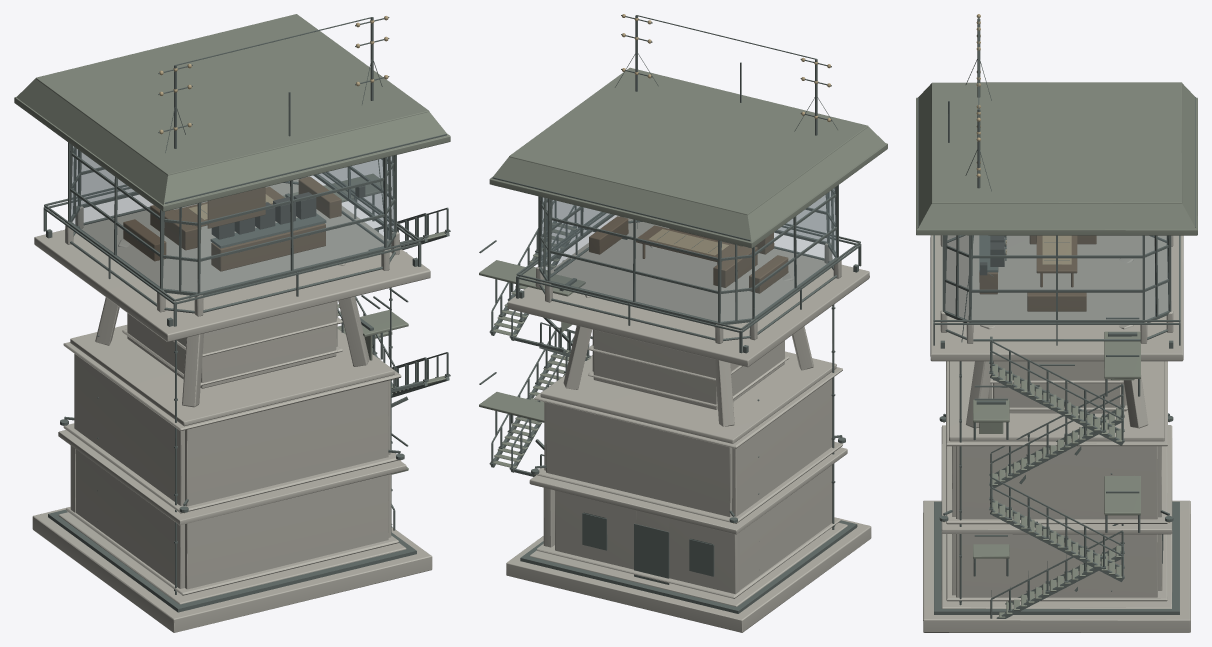
File: Control_Tower_HQ_23_LOD1.glb
3 views of the same model, side by side, from view 1: azimuth 30°, elevation 25°; view 2: azimuth 150°, elevation 25°; view 3: azimuth 270°, elevation 25° (orthographic). The views are drawn at different scales.
Visible parts, largest first — view 1: HQ23 Tower LOD1 | HQ23 Tower | Combined | aged poured concre, HQ23 Tower LOD1 | HQ23 Tower | Combined | faded galvanized w, HQ23 Tower LOD1 | HQ23 Tower | Combined | lightly smoky wart, HQ23 Tower LOD1 | HQ23 Tower | Combined | dark oxide steel a, HQ23 Tower LOD1 | HQ23 Tower | Combined | dark varnished ope, HQ23 Tower LOD1 | HQ23 Tower | Combined | radio bakelite and; view 2: HQ23 Tower LOD1 | HQ23 Tower | Combined | aged poured concre, HQ23 Tower LOD1 | HQ23 Tower | Combined | faded galvanized w, HQ23 Tower LOD1 | HQ23 Tower | Combined | dark oxide steel a, HQ23 Tower LOD1 | HQ23 Tower | Combined | lightly smoky wart, HQ23 Tower LOD1 | HQ23 Tower | Combined | dark varnished ope, HQ23 Tower LOD1 | HQ23 Tower | Combined | folded map and can; view 3: HQ23 Tower LOD1 | HQ23 Tower | Combined | aged poured concre, HQ23 Tower LOD1 | HQ23 Tower | Combined | faded galvanized w, HQ23 Tower LOD1 | HQ23 Tower | Combined | dark oxide steel a, HQ23 Tower LOD1 | HQ23 Tower | Combined | lightly smoky wart, HQ23 Tower LOD1 | HQ23 Tower | Combined | dark varnished ope, HQ23 Tower LOD1 | HQ23 Tower | Combined | folded map and can, HQ23 Tower LOD1 | HQ23 Tower | Combined | radio bakelite and.
Part boxes in pixels (bbox=[...]): HQ23 Tower LOD1 | HQ23 Tower | Combined | aged poured concre: bbox=[32, 177, 432, 632]; HQ23 Tower LOD1 | HQ23 Tower | Combined | faded galvanized w: bbox=[14, 14, 450, 524]; HQ23 Tower LOD1 | HQ23 Tower | Combined | lightly smoky wart: bbox=[70, 146, 394, 292]; HQ23 Tower LOD1 | HQ23 Tower | Combined | dark oxide steel a: bbox=[43, 17, 450, 612]; HQ23 Tower LOD1 | HQ23 Tower | Combined | dark varnished ope: bbox=[123, 176, 341, 271]; HQ23 Tower LOD1 | HQ23 Tower | Combined | radio bakelite and: bbox=[211, 185, 365, 239]; HQ23 Tower LOD1 | HQ23 Tower | Combined | aged poured concre: bbox=[506, 216, 871, 632]; HQ23 Tower LOD1 | HQ23 Tower | Combined | faded galvanized w: bbox=[479, 67, 887, 468]; HQ23 Tower LOD1 | HQ23 Tower | Combined | dark oxide steel a: bbox=[479, 15, 861, 613]; HQ23 Tower LOD1 | HQ23 Tower | Combined | lightly smoky wart: bbox=[540, 188, 836, 321]; HQ23 Tower LOD1 | HQ23 Tower | Combined | dark varnished ope: bbox=[589, 216, 788, 293]; HQ23 Tower LOD1 | HQ23 Tower | Combined | folded map and can: bbox=[534, 14, 842, 523]; HQ23 Tower LOD1 | HQ23 Tower | Combined | aged poured concre: bbox=[923, 235, 1190, 632]; HQ23 Tower LOD1 | HQ23 Tower | Combined | faded galvanized w: bbox=[916, 82, 1197, 617]; HQ23 Tower LOD1 | HQ23 Tower | Combined | dark oxide steel a: bbox=[918, 16, 1195, 618]; HQ23 Tower LOD1 | HQ23 Tower | Combined | lightly smoky wart: bbox=[945, 235, 1168, 319]; HQ23 Tower LOD1 | HQ23 Tower | Combined | dark varnished ope: bbox=[979, 235, 1096, 311]; HQ23 Tower LOD1 | HQ23 Tower | Combined | folded map and can: bbox=[943, 14, 1169, 522]; HQ23 Tower LOD1 | HQ23 Tower | Combined | radio bakelite and: bbox=[980, 235, 1006, 275].
Size of the model in its own units: 14.48 by 22.67 by 11.35.
